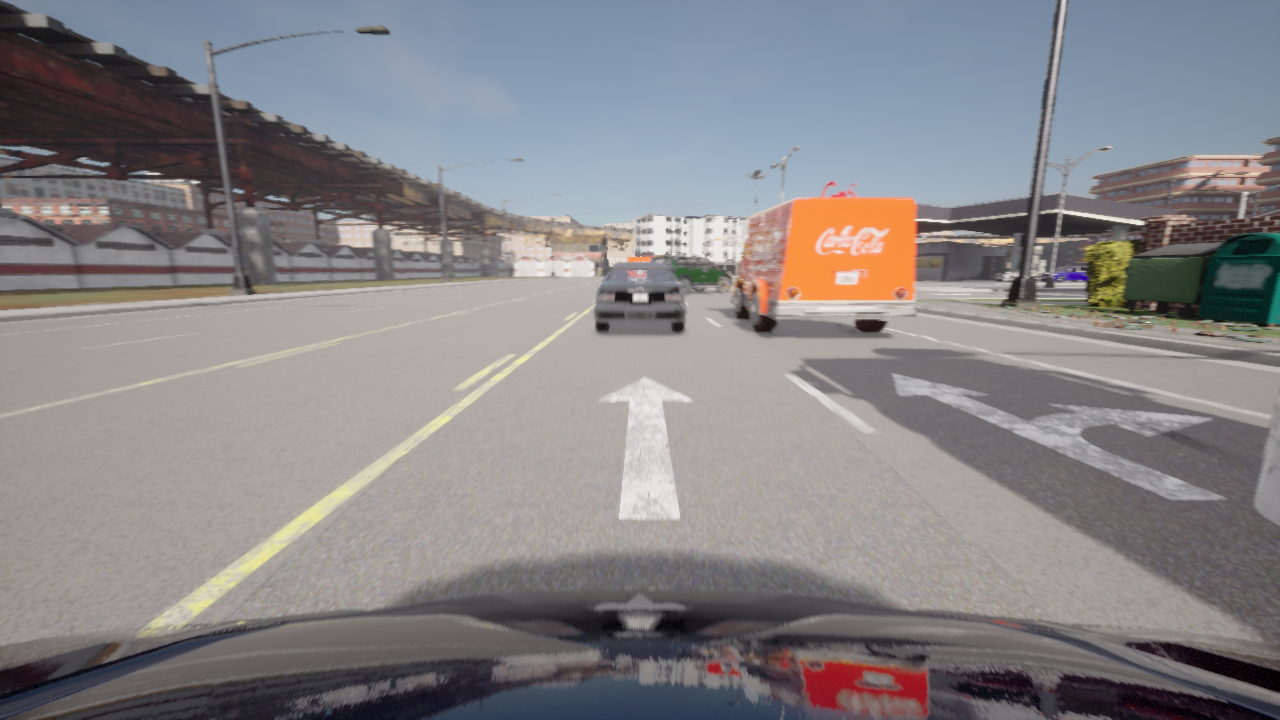cyclist: (0, 588, 1279, 719), (726, 198, 916, 332), (594, 263, 685, 330), (1252, 385, 1279, 524), (650, 255, 732, 294), (1040, 265, 1087, 281), (995, 269, 1037, 281), (626, 256, 652, 262)
